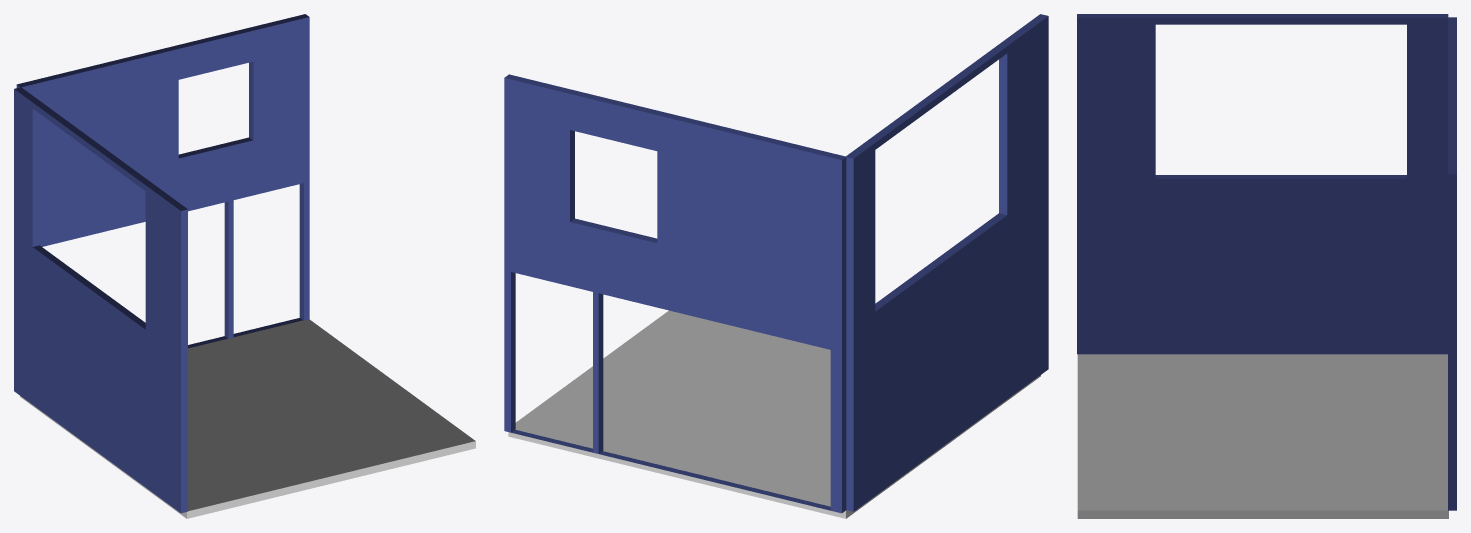
File: Room Template.fbx
The picture shows the model from 3 angles, left to right: view 1: azimuth 30°, elevation 25°; view 2: azimuth 150°, elevation 25°; view 3: azimuth 270°, elevation 25°; orthographic projection. The views are drawn at different scales.
Visible parts, largest first — view 1: Node 0; view 2: Node 0; view 3: Node 0.
Part boxes in pixels (bbox=[...]): Node 0: bbox=[14, 14, 475, 518]; Node 0: bbox=[504, 14, 1048, 518]; Node 0: bbox=[1077, 14, 1456, 518].
Bounding box in the file's own units: 5.33 × 5.34 × 5.33.
